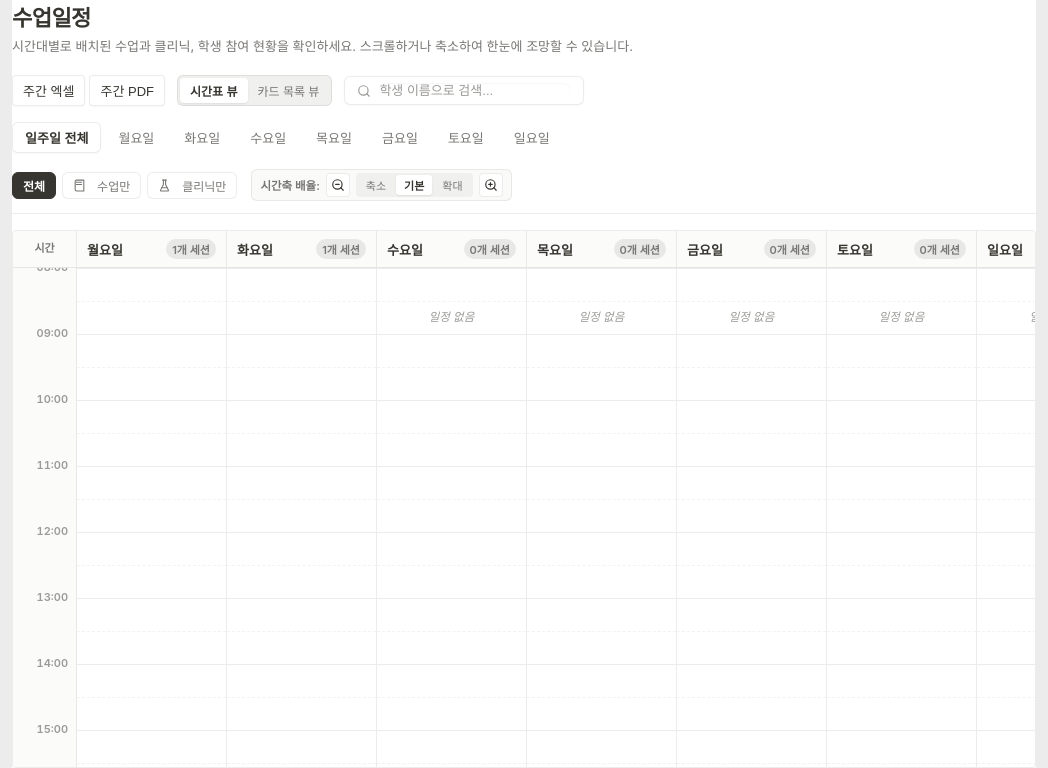
Test: WeeklySchedulePage › filters by single day when day button is clicked
Click 화요일 tab
What coordinates should you click on to do the following:
click the button "화요일"
I would click on:
 (202, 138)
Its box is 171,122 -> 233,153.
(page scrolled)
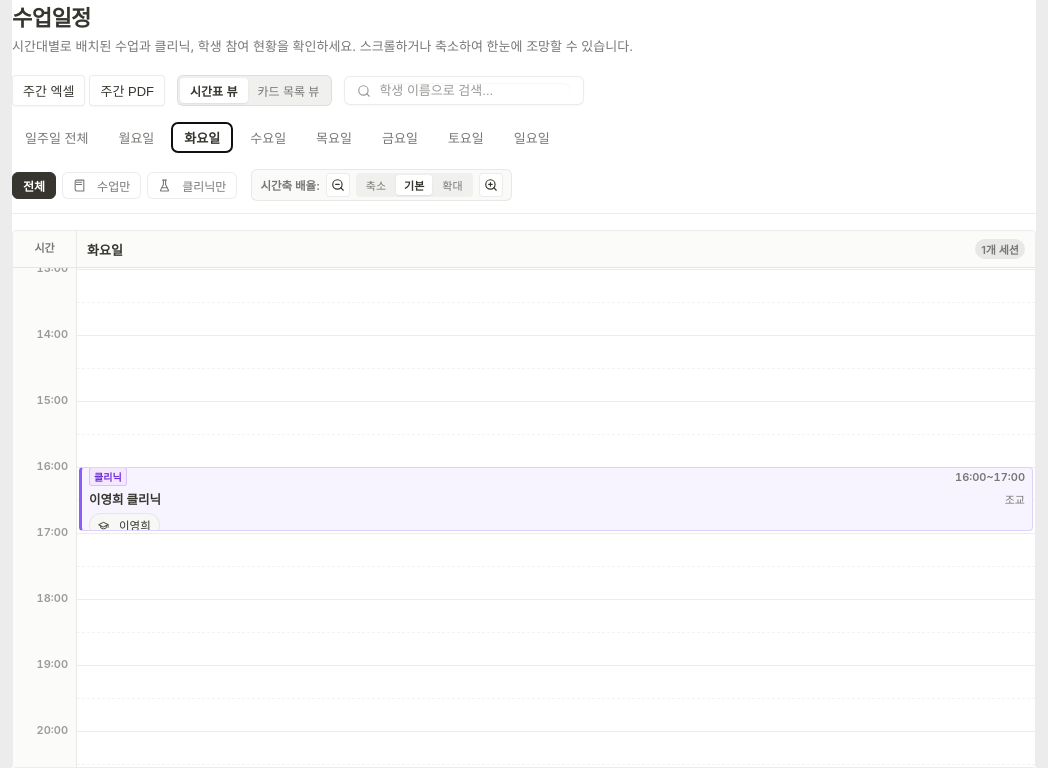
Now the heading "이영희 클리닉" is shown, box 89,492 -> 161,507
